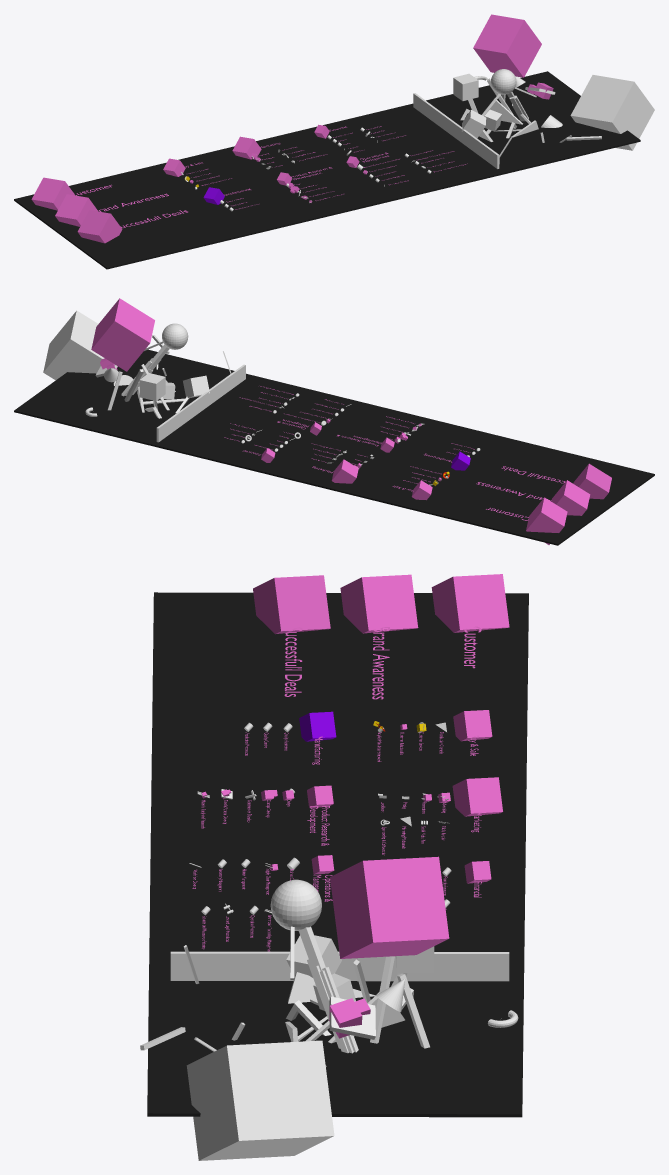
The picture shows the model from 3 angles, top to bottom: view 1: azimuth 30°, elevation 25°; view 2: azimuth 150°, elevation 25°; view 3: azimuth 270°, elevation 25°; orthographic projection. The views are drawn at different scales.
Visible parts, largest first — view 1: Cube.002, Cube.Customer.026, Cube.Customer, Cube.020, Cube.Customer.001, Cube.Customer.003, Cube.Customer.002, Cube.011, Product, Marketing, Cube.Customer.010; view 2: Cube.002, Cube.Customer, Cube.Customer.026, Cube.020, Cube.Customer.003, Cube.Customer.002, Cube.Customer.001, Cube.011, Product, Cube.Customer.010, Marketing; view 3: Cube.002, Cube.Customer.026, Cube.Customer, Cube.020, Cube.Customer.001, Cube.Customer.003, Cube.Customer.002, Product, Cube.Customer.010, Marketing, Cube.Customer.016, Cube.Customer.015 (+1 smaller).
Part boxes in pixels (<box>): Cube.002: <box>14,71,640,269</box>; Cube.Customer.026: <box>570,75,654,150</box>; Cube.Customer: <box>473,14,541,77</box>; Cube.020: <box>413,93,499,168</box>; Cube.Customer.001: <box>77,210,122,243</box>; Cube.Customer.003: <box>31,177,75,210</box>; Cube.Customer.002: <box>55,194,98,226</box>; Cube.011: <box>453,73,478,100</box>; Product: <box>491,69,516,94</box>; Marketing: <box>461,110,486,138</box>; Cube.Customer.010: <box>232,136,261,159</box>; Cube.002: <box>14,349,654,545</box>; Cube.Customer: <box>91,298,154,371</box>; Cube.Customer.026: <box>43,310,104,380</box>; Cube.020: <box>156,364,245,442</box>; Cube.Customer.003: <box>526,497,567,544</box>; Cube.Customer.002: <box>551,480,590,515</box>; Cube.Customer.001: <box>573,463,611,499</box>; Cube.011: <box>139,373,165,401</box>; Product: <box>162,323,188,349</box>; Cube.Customer.010: <box>331,459,358,483</box>; Marketing: <box>183,375,209,397</box>; Cube.002: <box>147,592,528,1117</box>; Cube.Customer.026: <box>186,1040,334,1160</box>; Cube.Customer: <box>330,856,449,958</box>; Cube.020: <box>170,951,509,981</box>; Cube.Customer.001: <box>253,575,330,634</box>; Cube.Customer.003: <box>431,574,509,632</box>; Cube.Customer.002: <box>340,574,418,633</box>; Product: <box>270,879,321,930</box>; Cube.Customer.010: <box>452,777,502,816</box>; Marketing: <box>286,935,341,977</box>; Cube.Customer.016: <box>453,710,492,741</box>; Cube.Customer.015: <box>299,711,336,741</box>.
Bounding box in the file's own units: 751 × 158 × 222.
